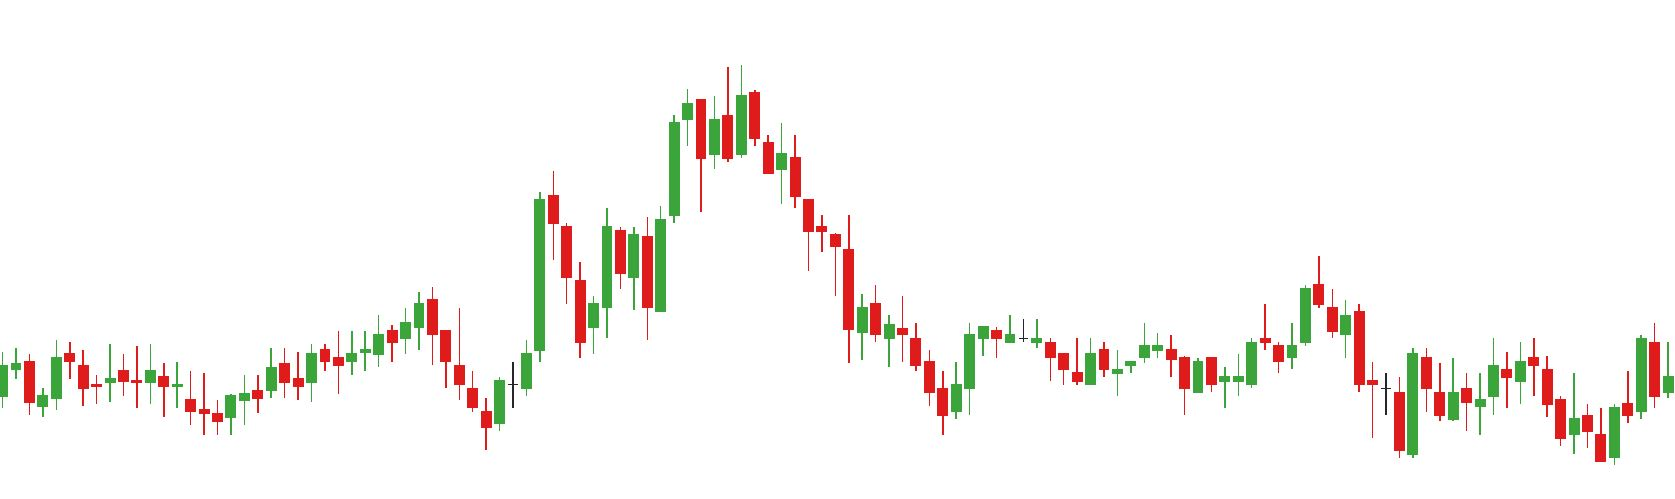buy: (1471, 367, 1581, 461)
